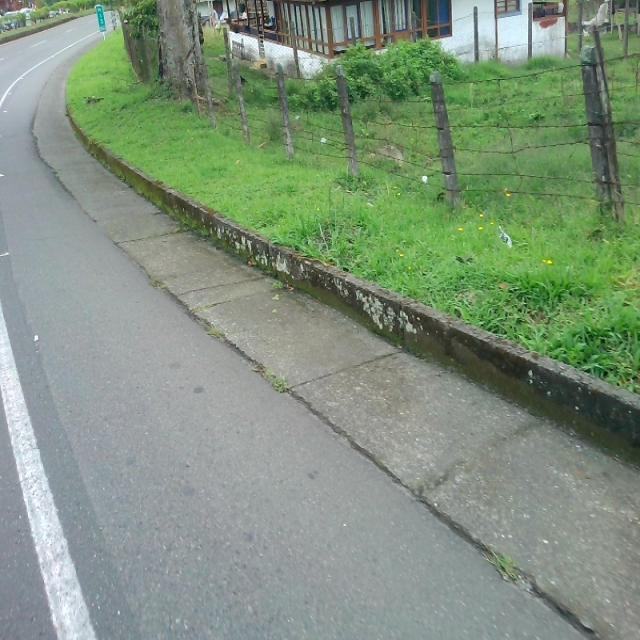DITCH: (30, 21, 638, 638), (1, 101, 638, 638), (1, 120, 638, 638)
